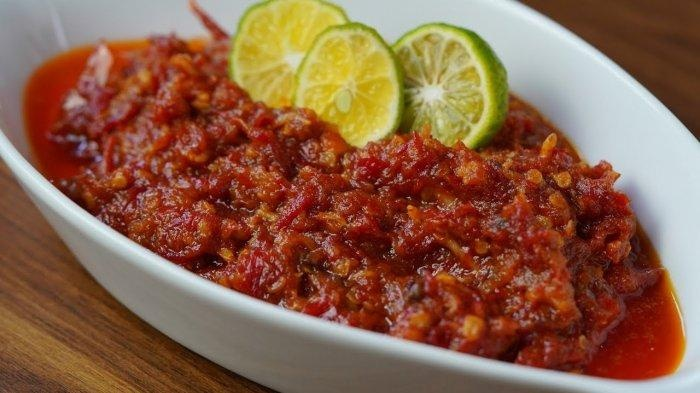sambal: (51, 29, 659, 374)
